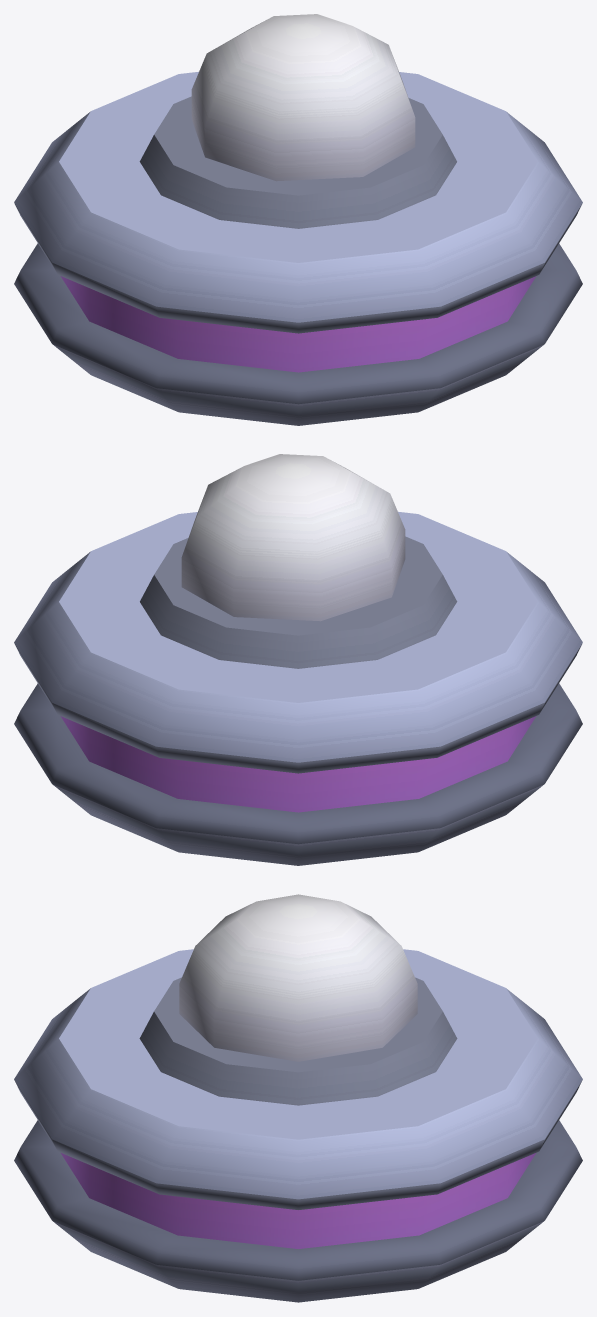
File: enemy-ufo-d.glb
3 views of the same model, one above another, from view 1: azimuth 30°, elevation 25°; view 2: azimuth 150°, elevation 25°; view 3: azimuth 270°, elevation 25° (orthographic).
Visible parts, largest first — view 1: enemy-ufo-d; view 2: enemy-ufo-d; view 3: enemy-ufo-d.
Boxes of the visible parts, x1=… form: enemy-ufo-d: x1=14, y1=14, x2=582, y2=425; enemy-ufo-d: x1=14, y1=454, x2=582, y2=865; enemy-ufo-d: x1=14, y1=894, x2=582, y2=1302.
Bounding box in the file's own units: 0.9494 × 0.5444 × 0.95.
Materials: 1 (1 with a texture image).
